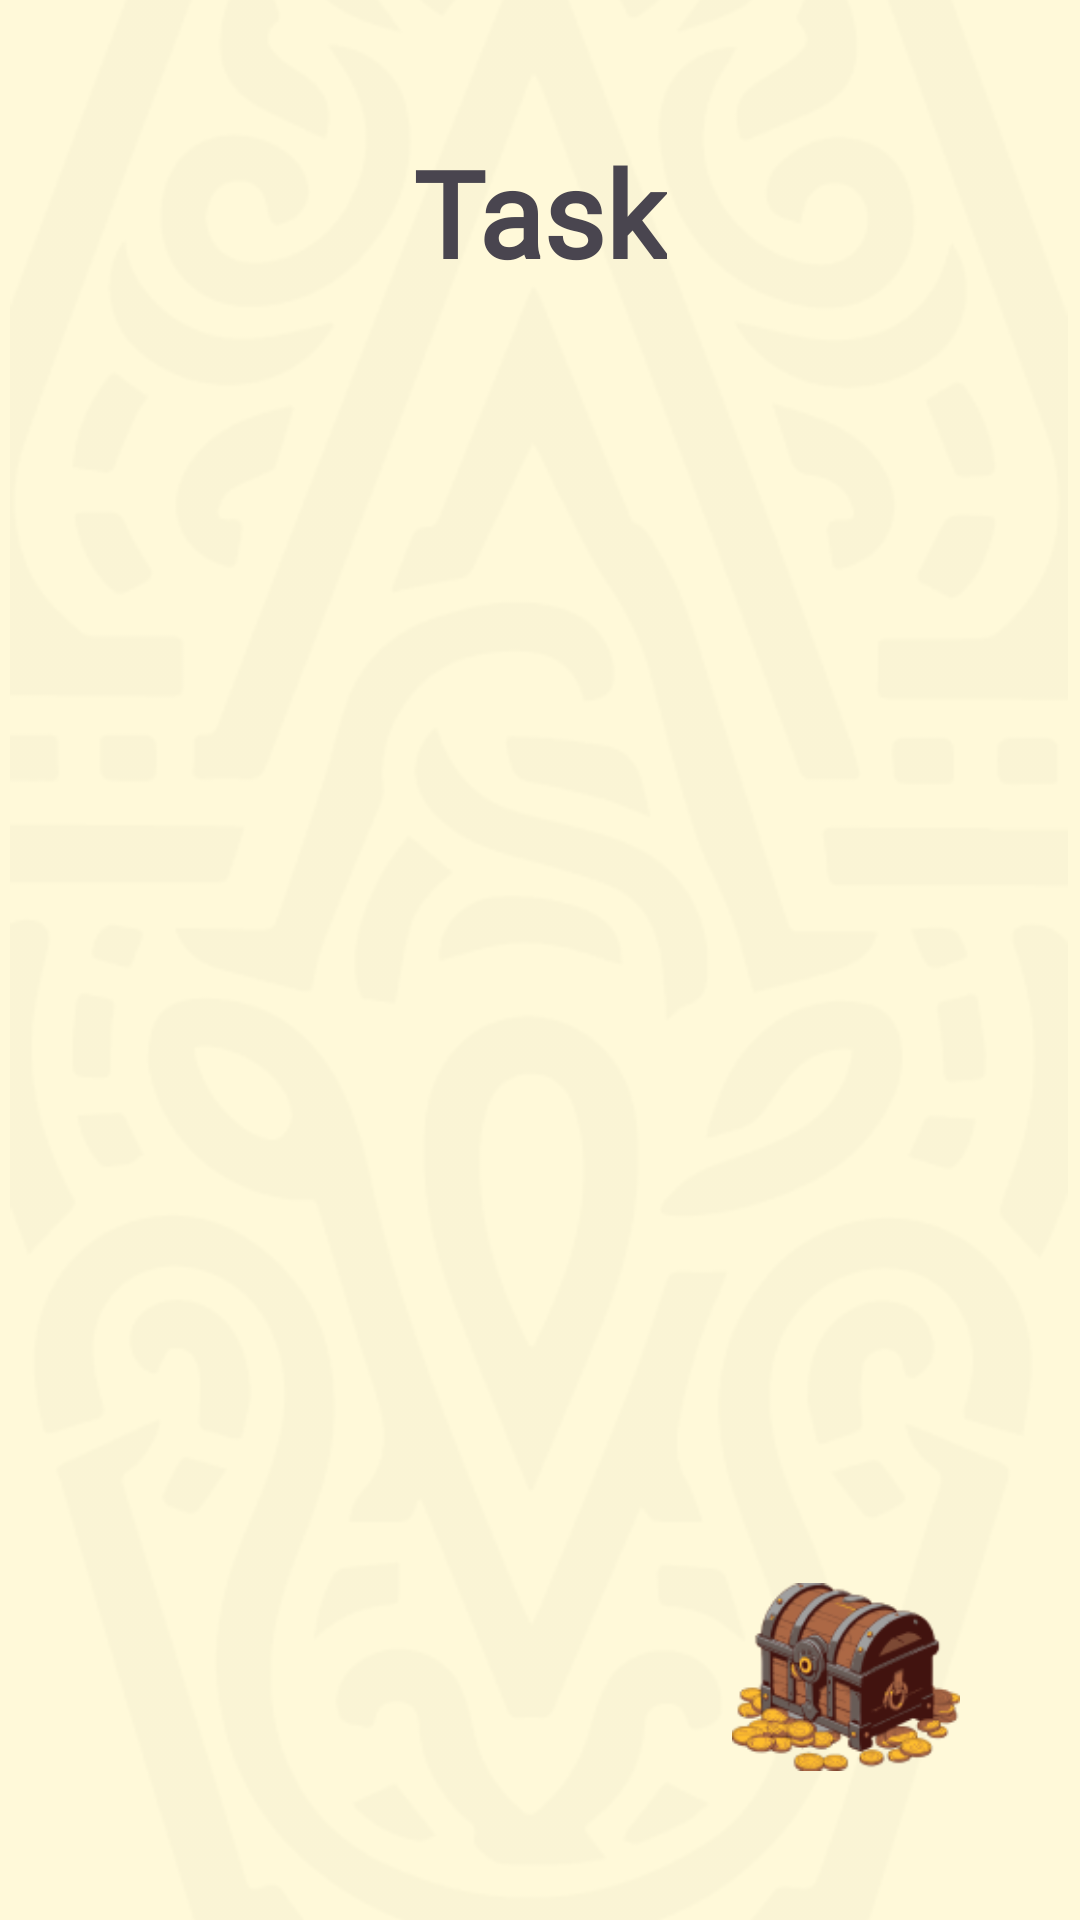

Icon bounding boxes for this 1080 x 1920 phone screenshot, format (x1, y1, x2, y2):
chest: (732, 1583, 960, 1771)
